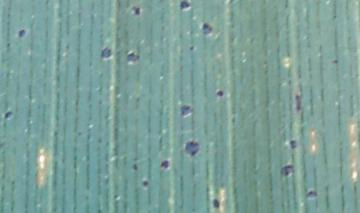tarspot: (184, 141, 200, 156), (280, 164, 295, 178), (199, 22, 214, 36), (125, 52, 141, 64), (180, 104, 194, 117), (99, 45, 112, 59), (130, 4, 142, 17), (305, 189, 319, 200), (294, 92, 302, 111), (159, 158, 170, 170), (178, 1, 190, 12), (17, 27, 27, 37), (211, 198, 220, 209), (4, 109, 15, 118), (289, 138, 297, 150), (215, 88, 224, 98), (131, 161, 138, 172), (330, 59, 340, 66), (141, 180, 149, 188), (187, 45, 196, 51)
